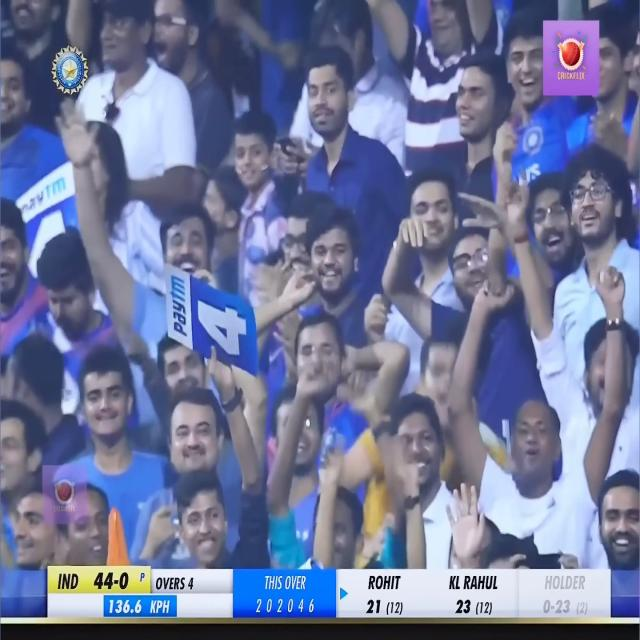fully_visible: (160, 252, 199, 361)
partially_visible: (10, 175, 80, 224)
